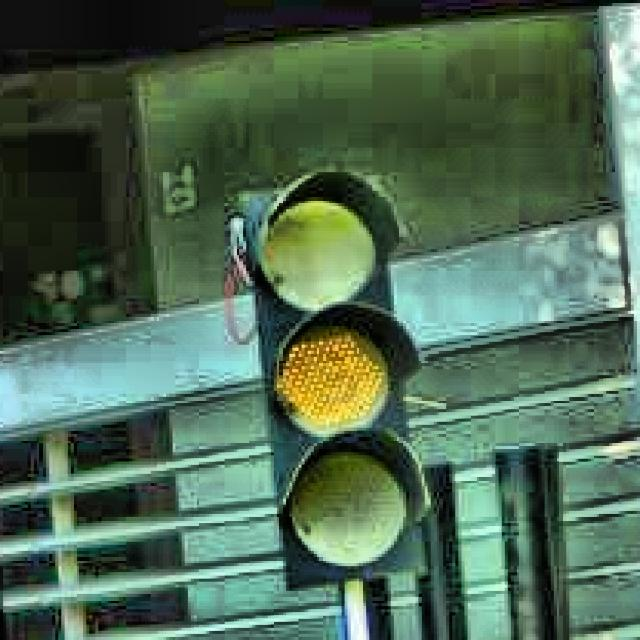yellow: (238, 163, 420, 582)
